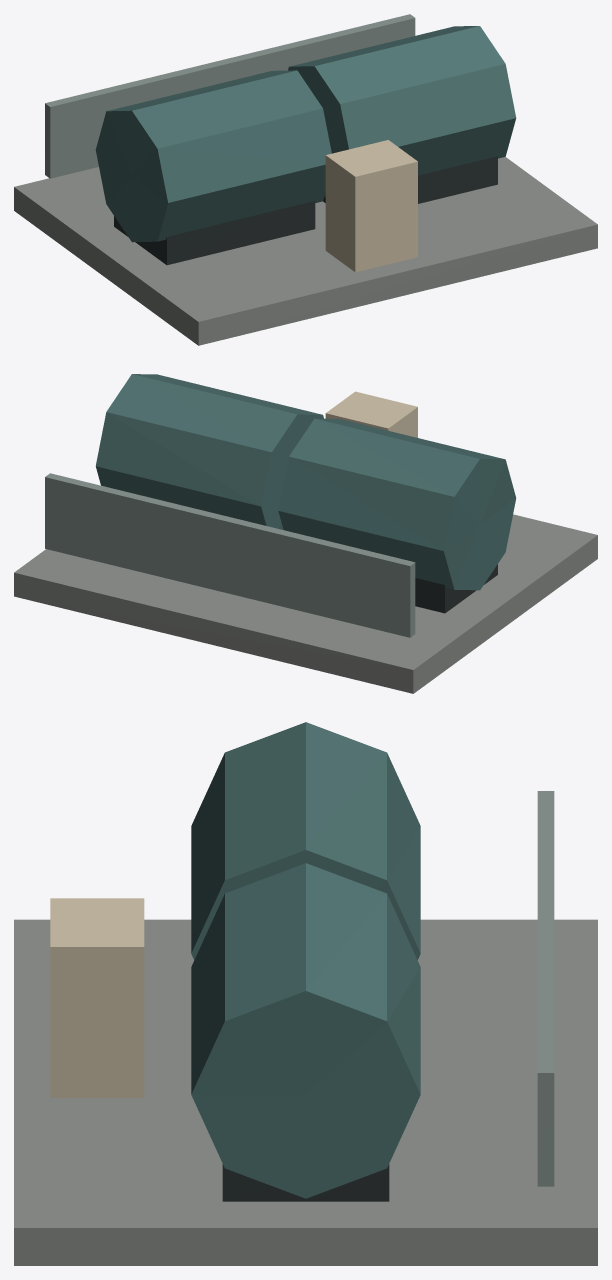
The model's file is Fuel-Storage.glb.
3 renders of one model, top to bottom at view 1: azimuth 30°, elevation 25°; view 2: azimuth 150°, elevation 25°; view 3: azimuth 270°, elevation 25°, orthographic. The views are drawn at different scales.
Parts seen in each view (by area): view 1: fuel-storage-static-fuel-teal, fuel-storage-static-fuel-concrete, fuel-storage-static-fuel-galv, fuel-storage-static-fuel-cream, fuel-storage-static-fuel-iron; view 2: fuel-storage-static-fuel-teal, fuel-storage-static-fuel-concrete, fuel-storage-static-fuel-galv, fuel-storage-static-fuel-cream, fuel-storage-static-fuel-iron; view 3: fuel-storage-static-fuel-concrete, fuel-storage-static-fuel-teal, fuel-storage-static-fuel-cream, fuel-storage-static-fuel-galv, fuel-storage-static-fuel-iron.
Boxes of the visible parts, <box> form: fuel-storage-static-fuel-teal: <box>95,26,516,242</box>; fuel-storage-static-fuel-concrete: <box>14,157,597,345</box>; fuel-storage-static-fuel-galv: <box>45,14,415,178</box>; fuel-storage-static-fuel-cream: <box>325,140,417,272</box>; fuel-storage-static-fuel-iron: <box>114,156,497,265</box>; fuel-storage-static-fuel-teal: <box>95,374,516,590</box>; fuel-storage-static-fuel-concrete: <box>14,514,597,693</box>; fuel-storage-static-fuel-galv: <box>45,473,415,637</box>; fuel-storage-static-fuel-cream: <box>325,391,417,437</box>; fuel-storage-static-fuel-iron: <box>415,564,497,613</box>; fuel-storage-static-fuel-concrete: <box>14,919,597,1265</box>; fuel-storage-static-fuel-teal: <box>191,722,420,1198</box>; fuel-storage-static-fuel-cream: <box>50,898,144,1097</box>; fuel-storage-static-fuel-galv: <box>537,791,554,1186</box>; fuel-storage-static-fuel-iron: <box>222,1164,389,1201</box>.
Bounding box in the file's own units: 3.5 × 1.35 × 2.8.
